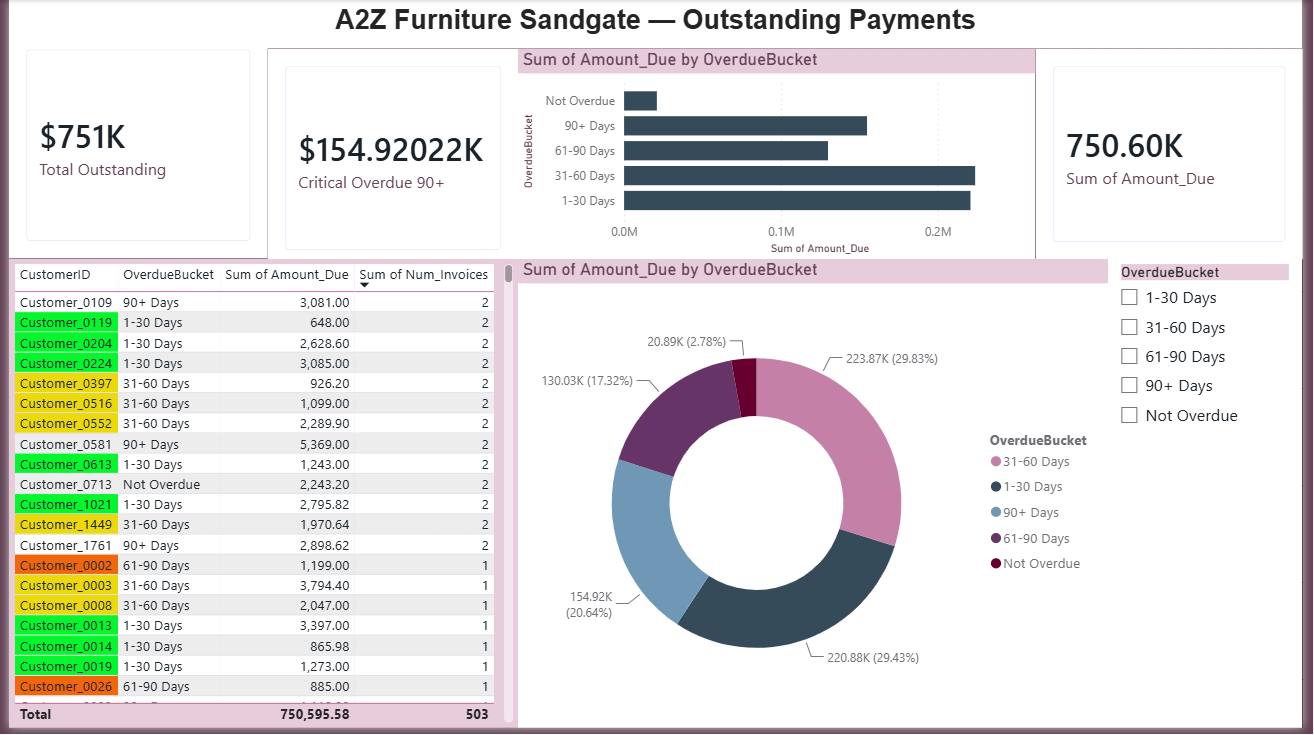

What the dashboard file says about the page in this screenshot:
{"tool":"powerbi","page":{"name":"Outstanding Payments","canvas":[1280,720],"ordinal":1},"visuals":[{"type":"textbox","box":[0,0,1272,48],"z":0},{"type":"cardVisual","fields":{"Data":["Invoice_Summary.Total Outstanding"]},"box":[0,32,256,224],"z":1000},{"type":"cardVisual","fields":{"Data":["Sum(Aged_Receivables.Amount_Due)"]},"box":[1016,48,264,208],"z":2000},{"type":"cardVisual","fields":{"Data":["Aged_Receivables.Critical Overdue 90+"]},"box":[256,48,248,216],"z":3000},{"type":"clusteredBarChart","fields":{"Category":["Aged_Receivables.OverdueBucket"],"Y":["Sum(Aged_Receivables.Amount_Due)"]},"box":[504,48,512,208],"z":4000},{"type":"tableEx","fields":{"Values":["Aged_Receivables.CustomerID","Aged_Receivables.OverdueBucket","Sum(Aged_Receivables.Amount_Due)","Sum(Aged_Receivables.Num_Invoices)"]},"box":[0,256,504,464],"z":5000},{"type":"donutChart","fields":{"Category":["Aged_Receivables.OverdueBucket"],"Y":["Sum(Aged_Receivables.Amount_Due)"]},"box":[504,256,584,464],"z":6000},{"type":"slicer","fields":{"Values":["Aged_Receivables.OverdueBucket"]},"box":[1088,256,192,464],"z":7000}]}

Visuals, with their boxes in screenshot pixels (x1, y1, x2, y2), scaled from the page's 1280x720 canvas onto the 1314x735 screenshot:
textbox: [left=0, top=0, right=1306, bottom=49]
cardVisual - Invoice_Summary.Total Outstanding: [left=0, top=33, right=263, bottom=261]
cardVisual - Sum(Aged_Receivables.Amount_Due): [left=1043, top=49, right=1313, bottom=261]
cardVisual - Aged_Receivables.Critical Overdue 90+: [left=263, top=49, right=517, bottom=270]
clusteredBarChart - Aged_Receivables.OverdueBucket x Sum(Aged_Receivables.Amount_Due): [left=517, top=49, right=1043, bottom=261]
tableEx - Aged_Receivables.CustomerID x Aged_Receivables.OverdueBucket: [left=0, top=261, right=517, bottom=734]
donutChart - Aged_Receivables.OverdueBucket x Sum(Aged_Receivables.Amount_Due): [left=517, top=261, right=1117, bottom=734]
slicer - Aged_Receivables.OverdueBucket: [left=1117, top=261, right=1313, bottom=734]
